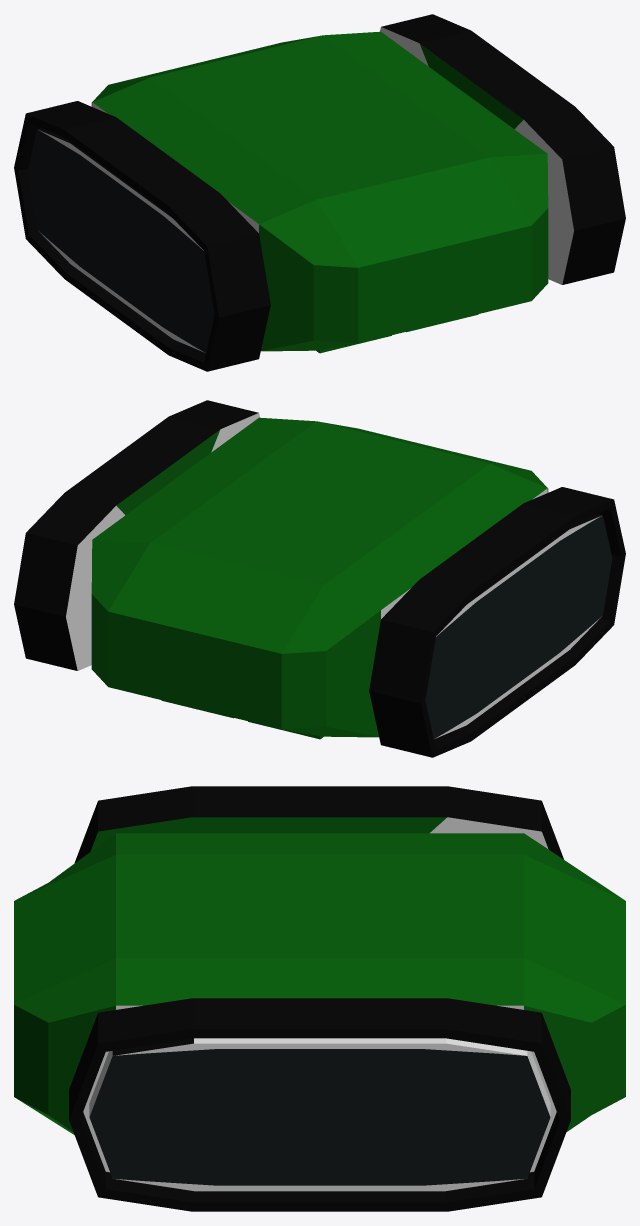
File: tank.fbx
3 renders of one model, top to bottom at view 1: azimuth 30°, elevation 25°; view 2: azimuth 150°, elevation 25°; view 3: azimuth 270°, elevation 25°, orthographic. The views are drawn at different scales.
Parts seen in each view (by area): view 1: Cube.001; view 2: Cube.001; view 3: Cube.001.
Part boxes in pixels (x1,y1,x2,y2): Cube.001: (14,14,625,371); Cube.001: (14,400,625,757); Cube.001: (14,786,625,1211).
Bounding box in the file's own units: 564 × 225 × 600.
